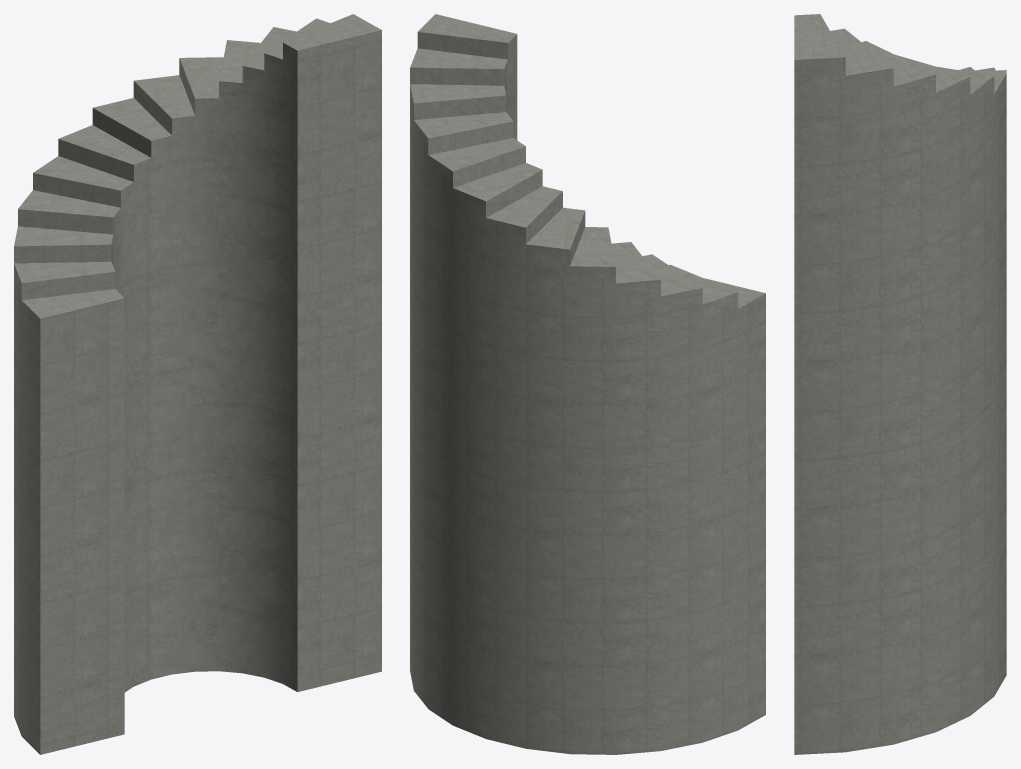
The model's file is Stairs__1_.fbx.
3 renders of one model, left to right at view 1: azimuth 30°, elevation 25°; view 2: azimuth 150°, elevation 25°; view 3: azimuth 270°, elevation 25°, orthographic. The views are drawn at different scales.
Parts seen in each view (by area): view 1: Stairs__1_; view 2: Stairs__1_; view 3: Stairs__1_.
Boxes of the visible parts, box(x1,y1,x2,y2) form: Stairs__1_: box(14, 14, 381, 754); Stairs__1_: box(410, 14, 765, 754); Stairs__1_: box(794, 14, 1006, 754).
Size of the model in its own units: 1928 by 3459 by 957.
Materials: 1 (1 with a texture image).
